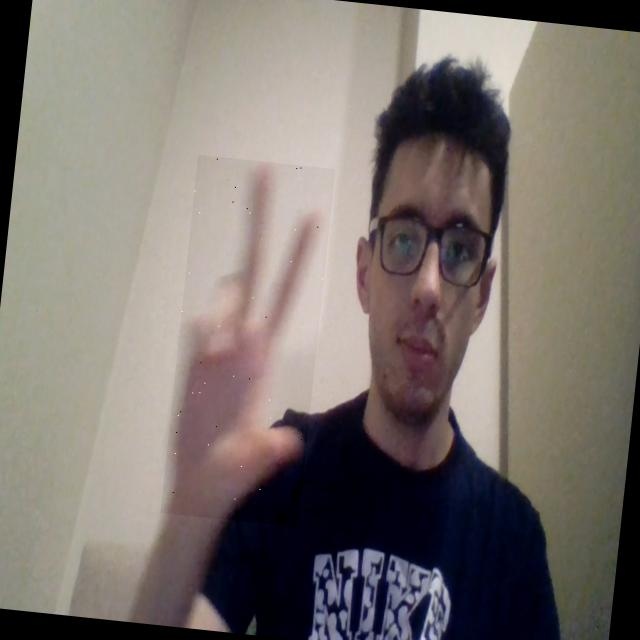no: (160, 154, 335, 526)
